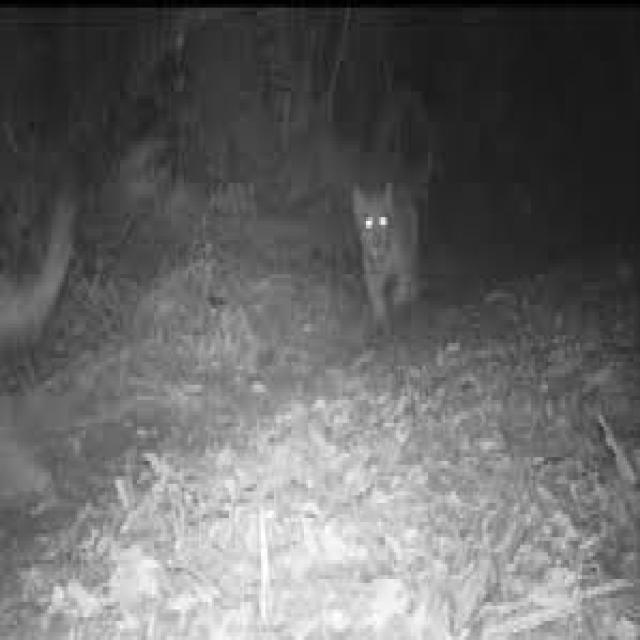Jaguar: (351, 175, 424, 347)
